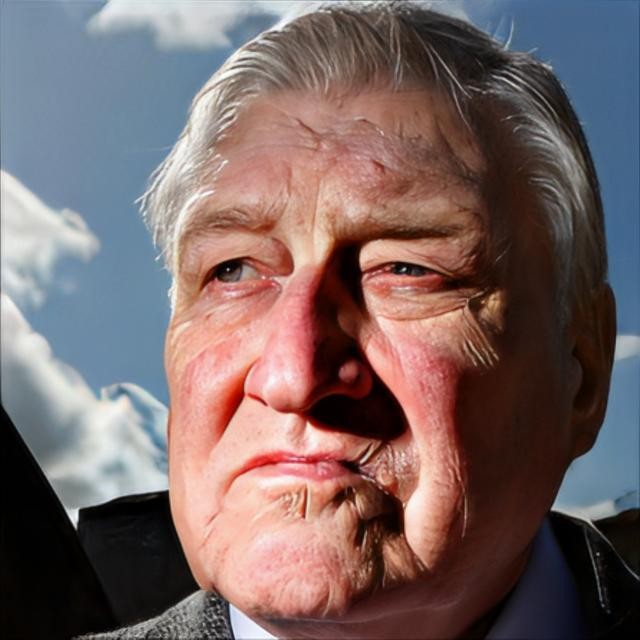sad: (168, 78, 560, 630)
